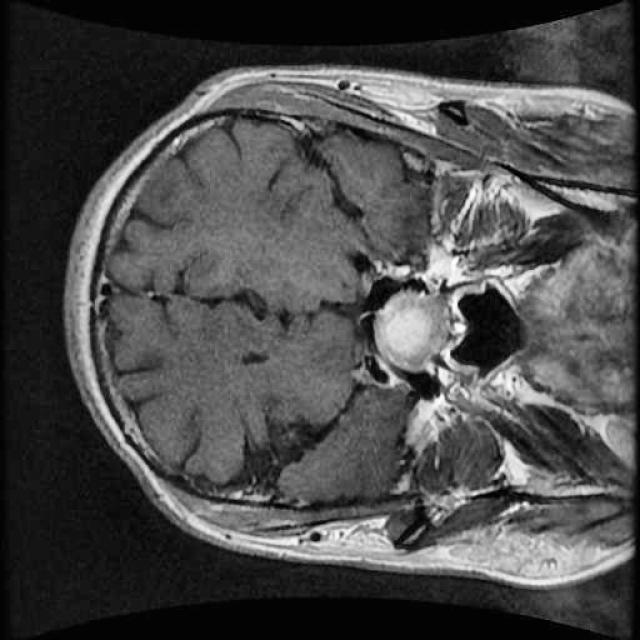Tumor: (360, 276, 468, 381)
